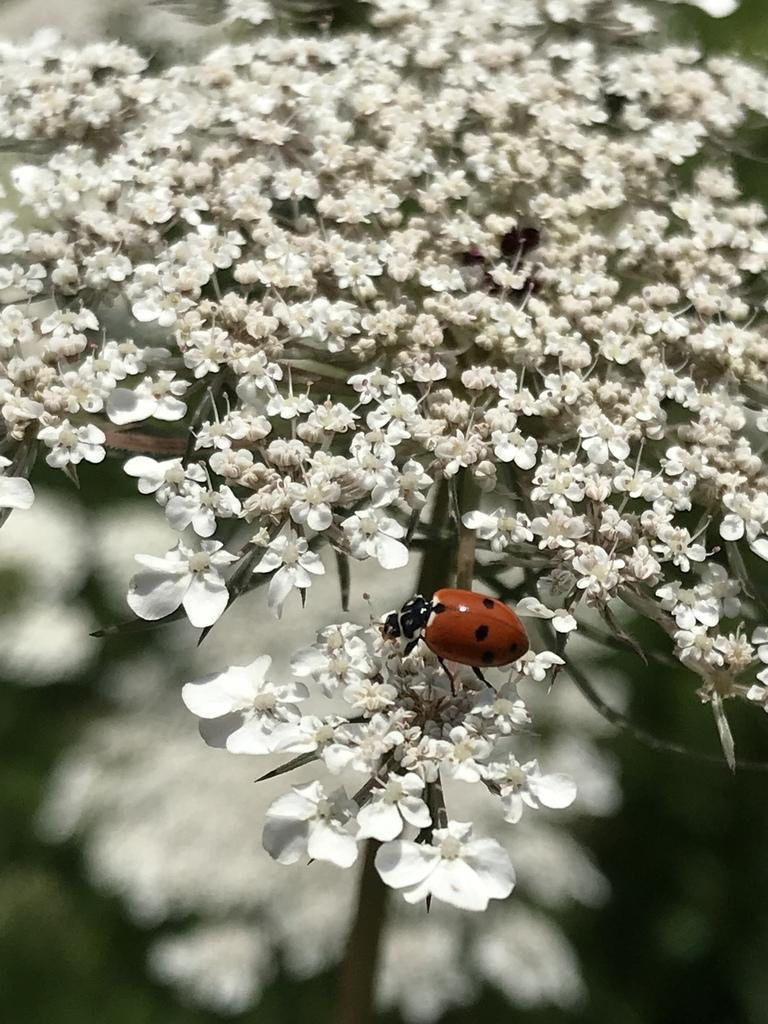ladybug: (367, 585, 536, 701)
